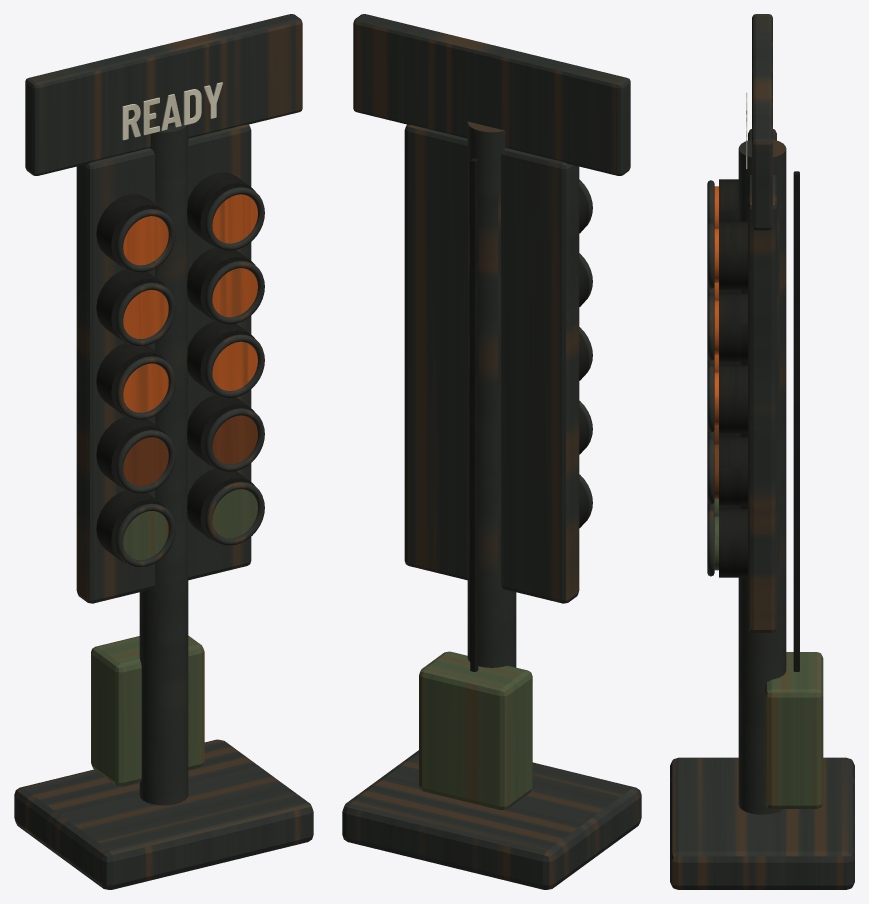
File: launch-tree.obj
3 views of the same model, side by side, from view 1: azimuth 30°, elevation 25°; view 2: azimuth 150°, elevation 25°; view 3: azimuth 270°, elevation 25° (orthographic). The views are drawn at different scales.
Visible parts, largest first — view 1: launch-tree; view 2: launch-tree; view 3: launch-tree.
Boxes of the visible parts, box(x1,y1,x2,y2) form: launch-tree: box(14, 14, 313, 889); launch-tree: box(342, 14, 641, 889); launch-tree: box(670, 14, 854, 889).
Size of the model in its own units: 1.15 by 3.2 by 0.7.
1 material, 1 textured.
